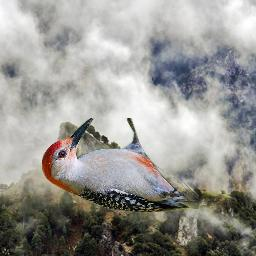Woodpecker: (42, 118, 199, 213)
